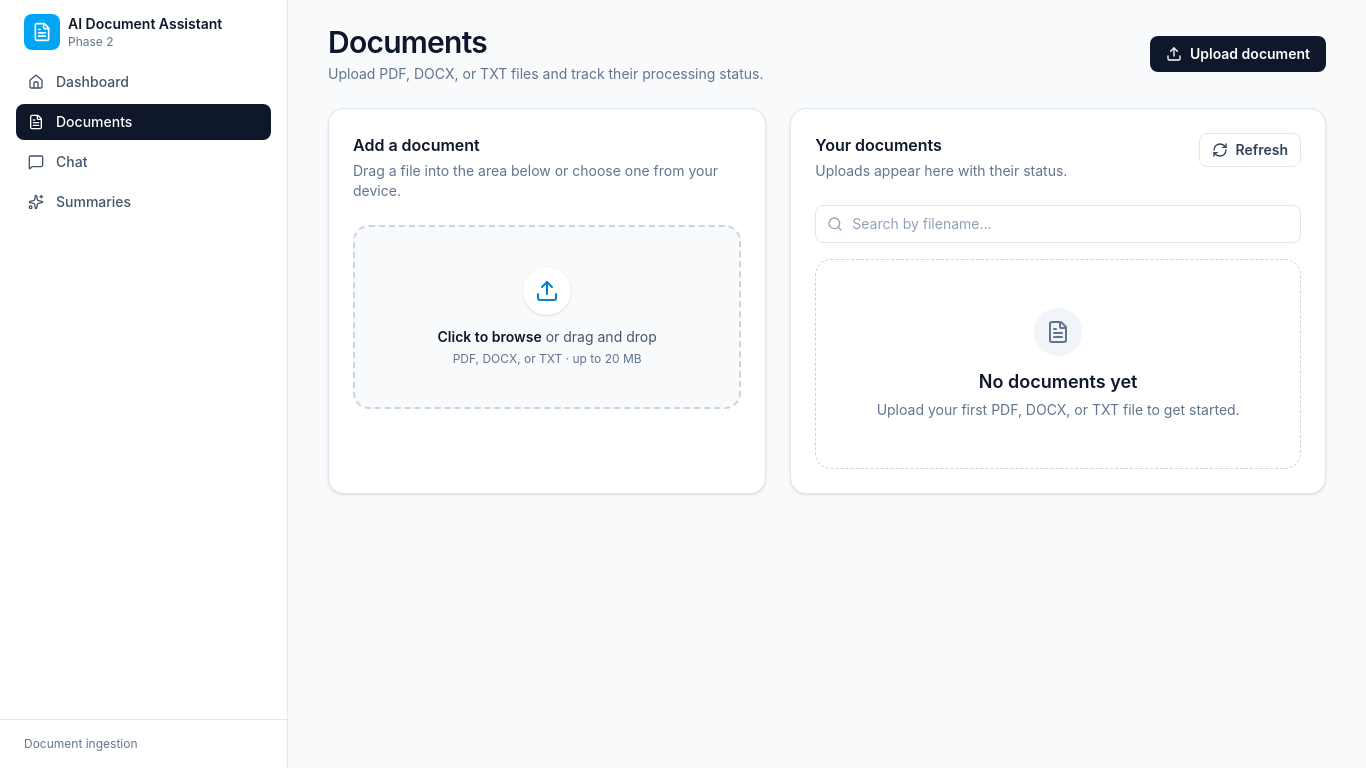
Test case: application routes › navigates between pages
Click the link "Summaries" at (80, 202), box 28,193 -> 131,210
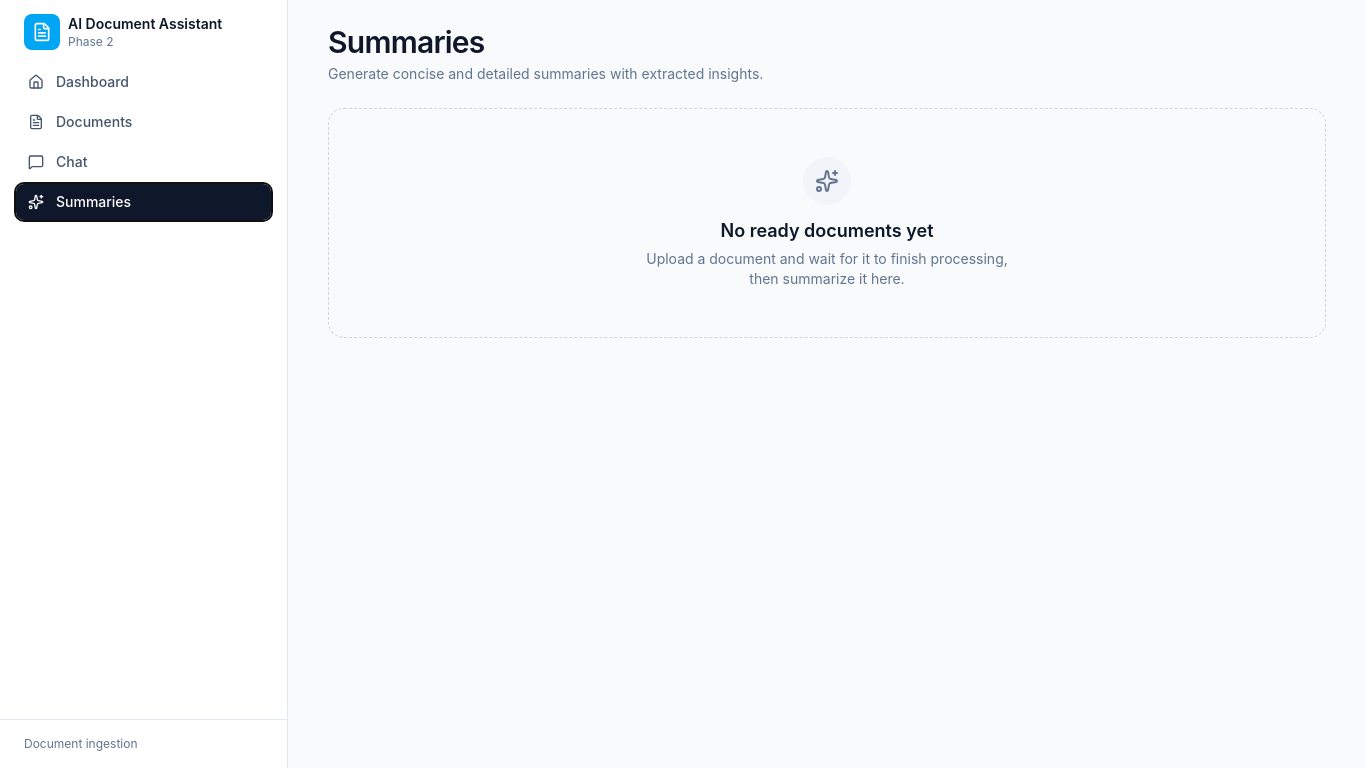
Now the heading "Summaries" is shown, box 328,24 -> 485,60
